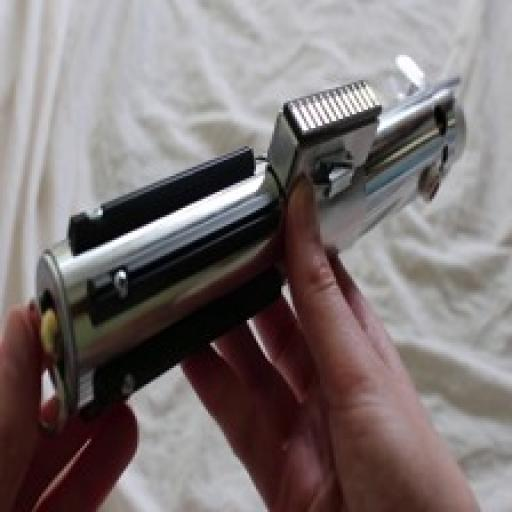lightsaber: (36, 54, 466, 418)
